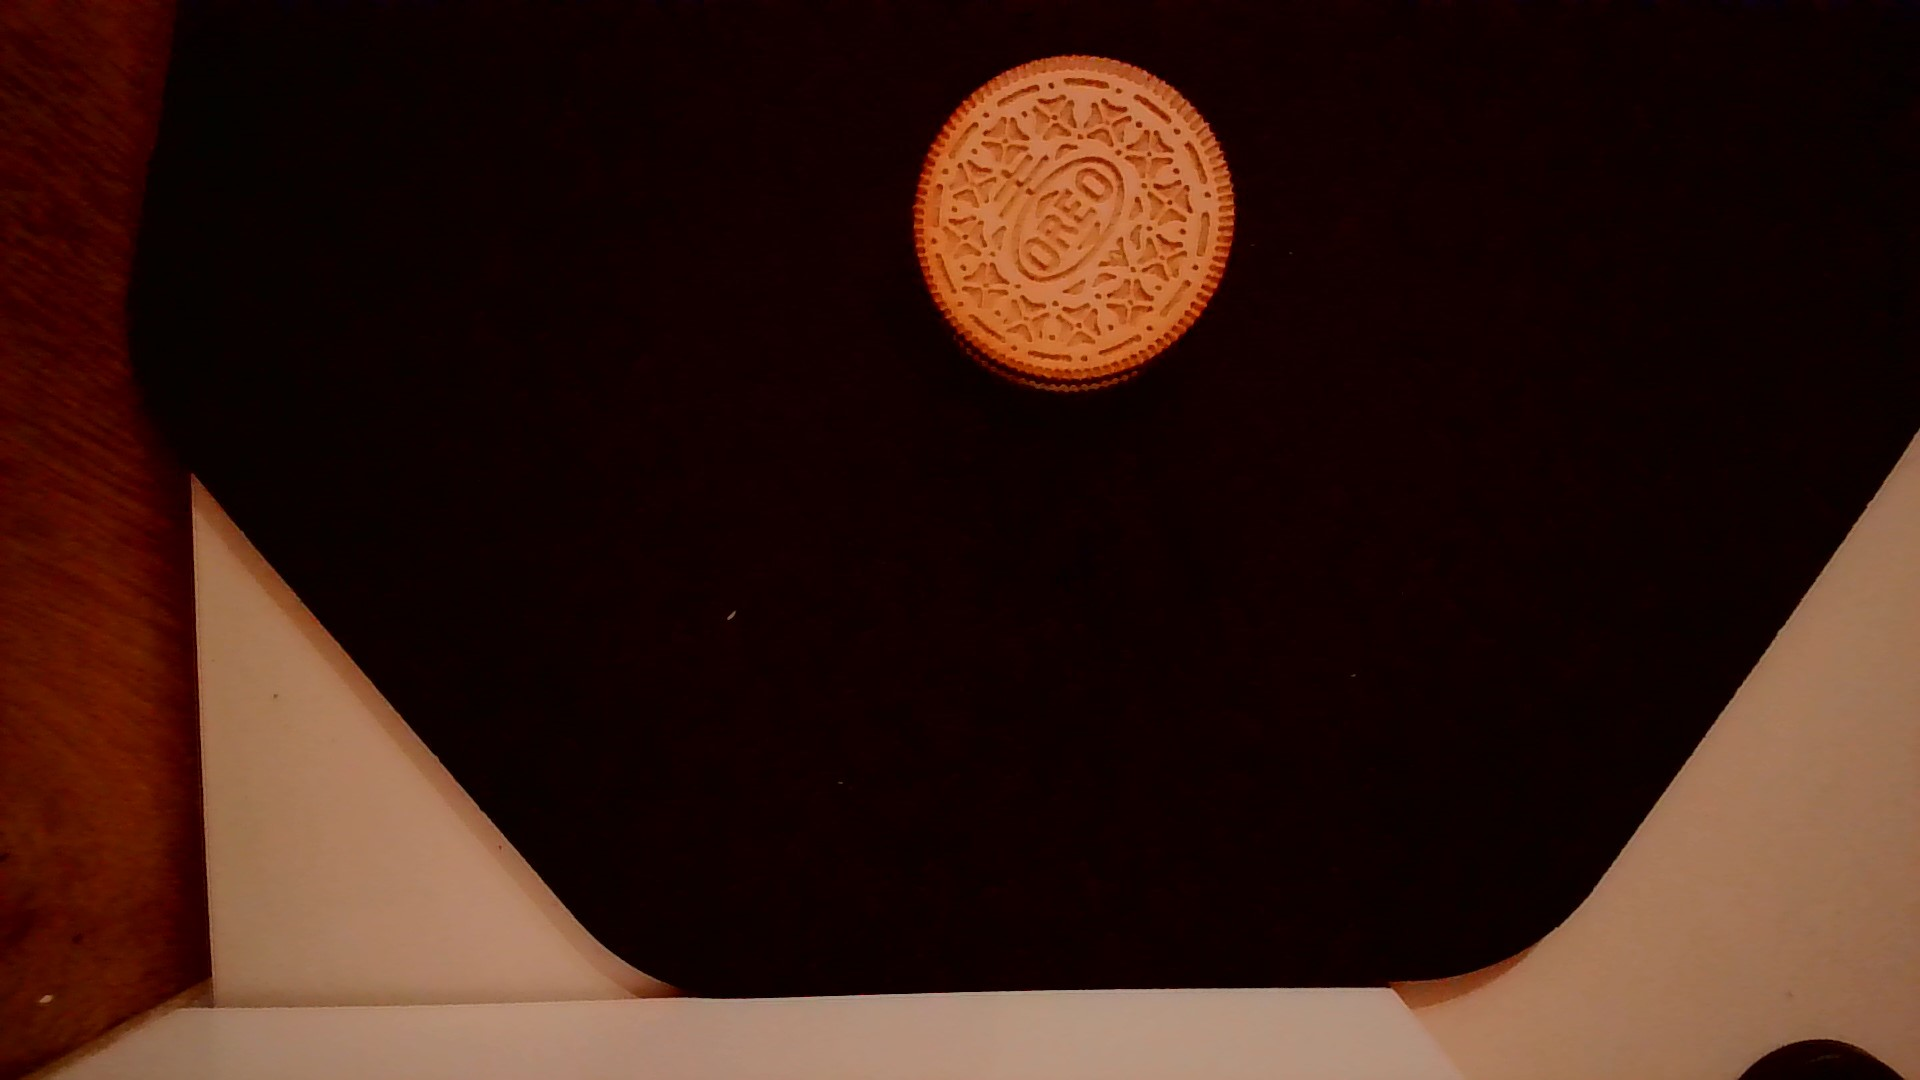Oréo: (901, 45, 1245, 405)
